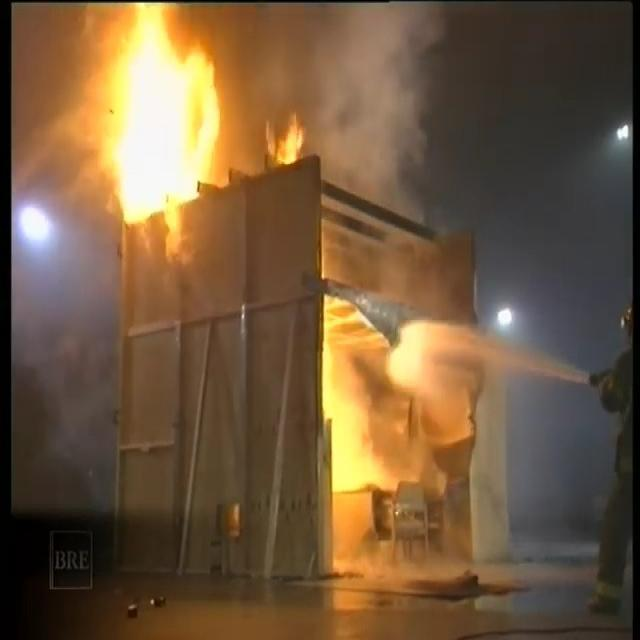Fire: (82, 2, 250, 238)
